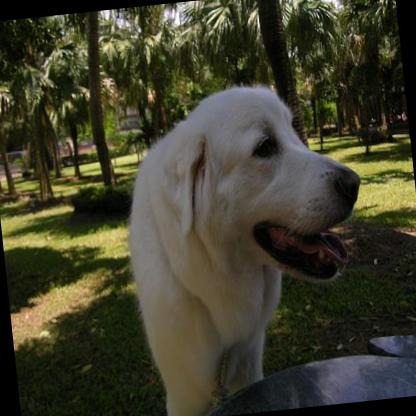Great_Pyrenees: (107, 68, 383, 416)
